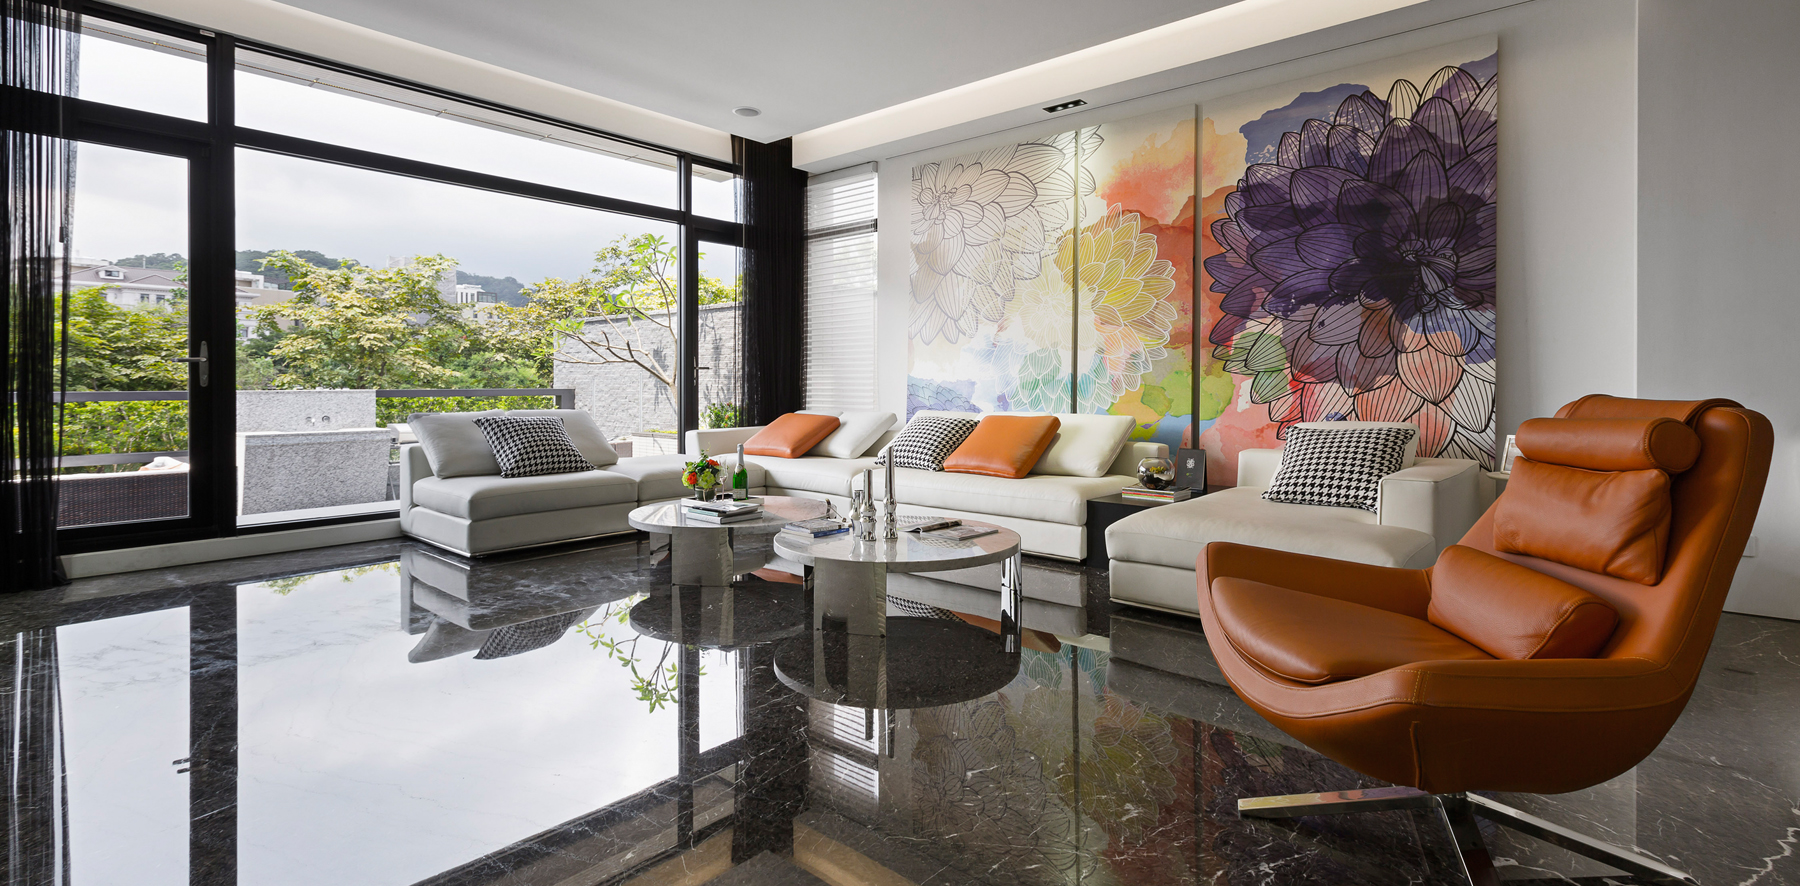sofa: (1109, 418, 1510, 624), (681, 409, 1173, 561), (387, 401, 699, 564)
